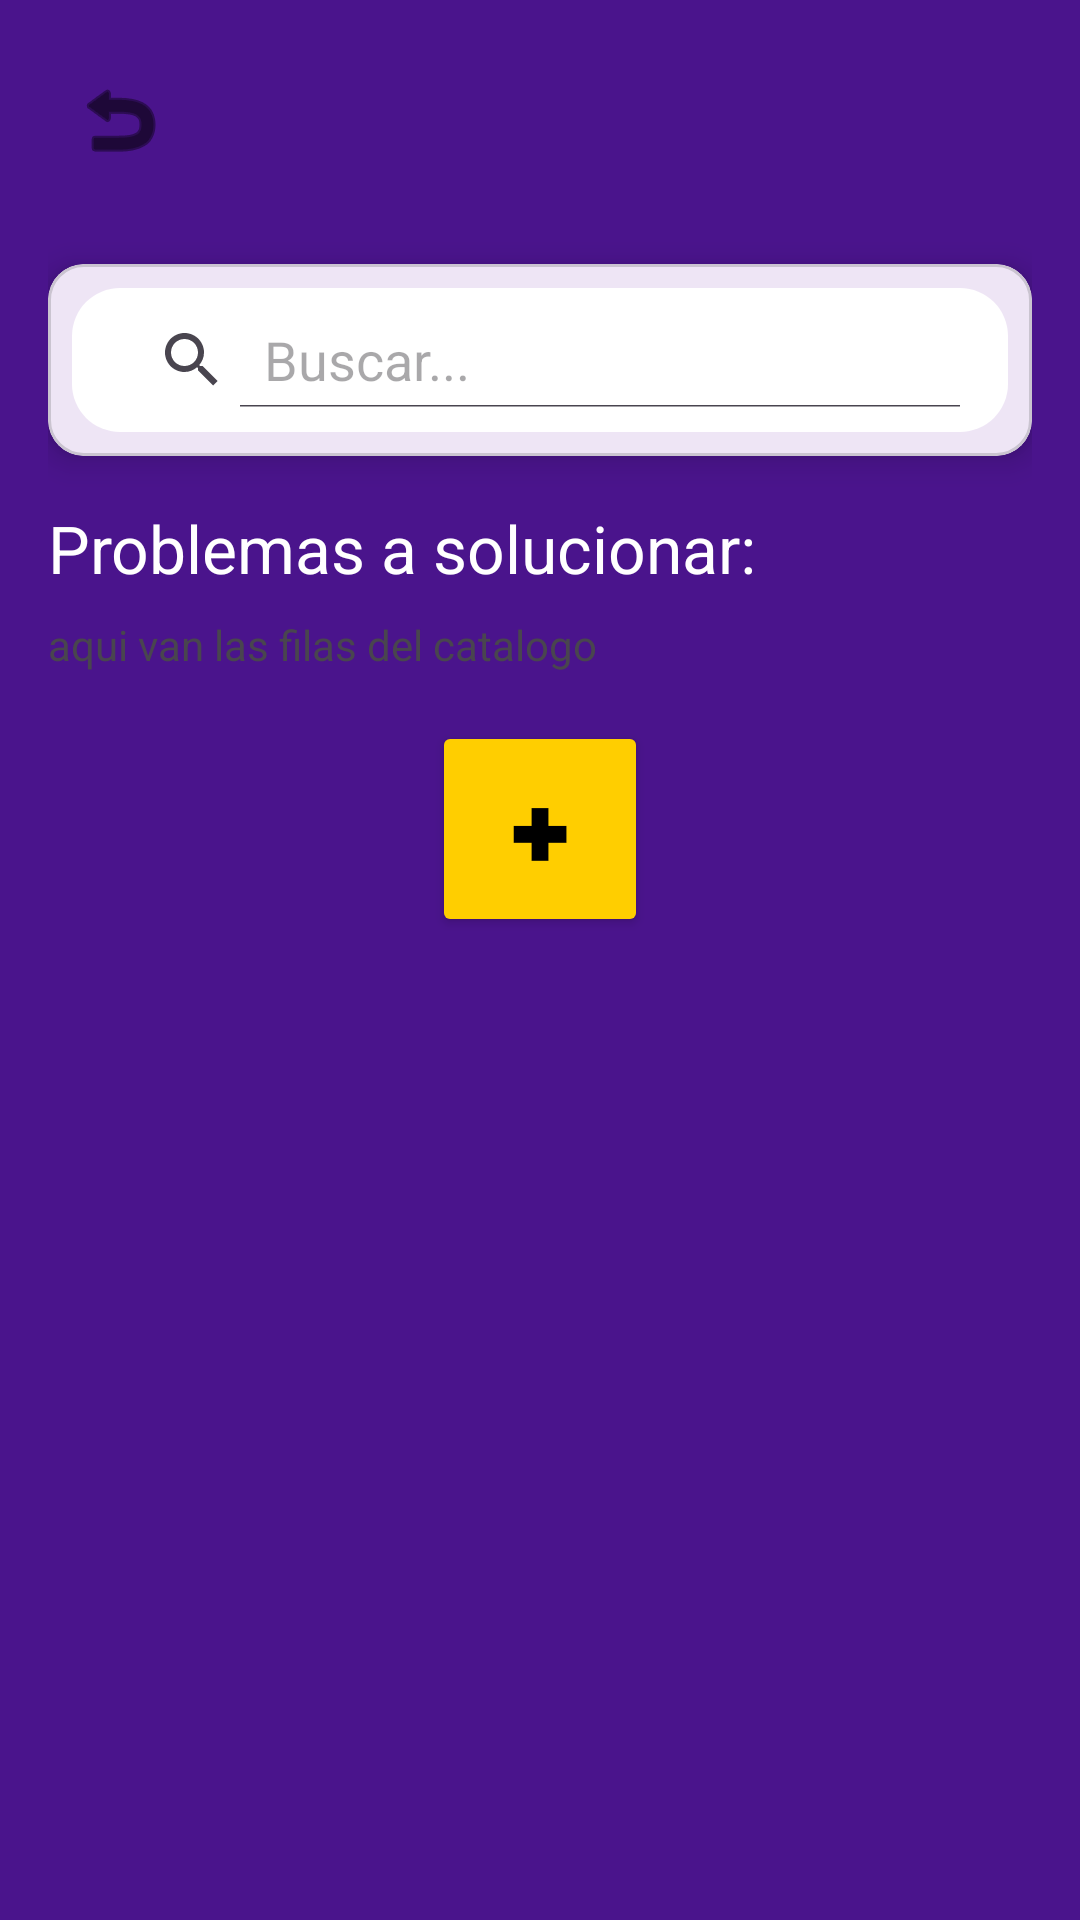

Where icons sit on this 1080 x 1920 app screen, as [x1,y1,x2,y2]:
Navega de vuelta a la ventana anterior: [87,90,156,152]
